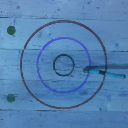Axe Tip: (86, 66, 96, 68)
